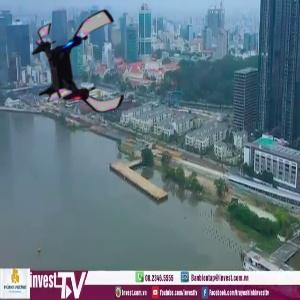drone: (26, 13, 138, 125)
